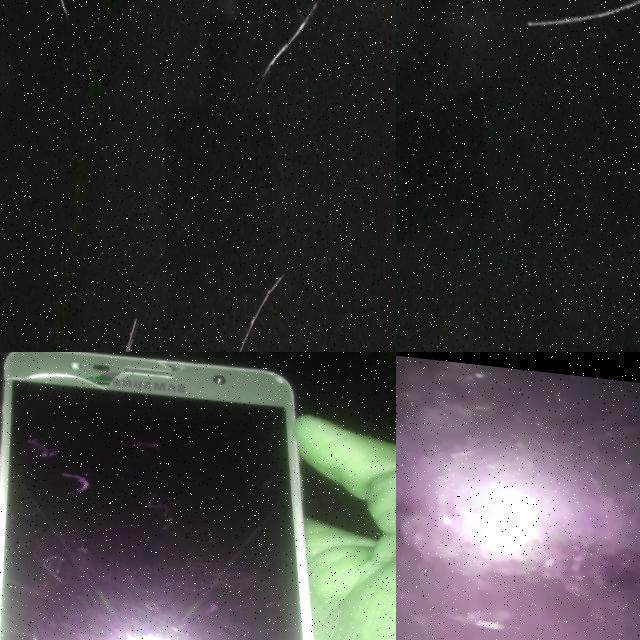scratch: (216, 258, 288, 352), (254, 0, 322, 83), (525, 0, 640, 45), (116, 306, 146, 352), (51, 0, 75, 12)
screen crack: (396, 507, 640, 640), (0, 352, 221, 410)
